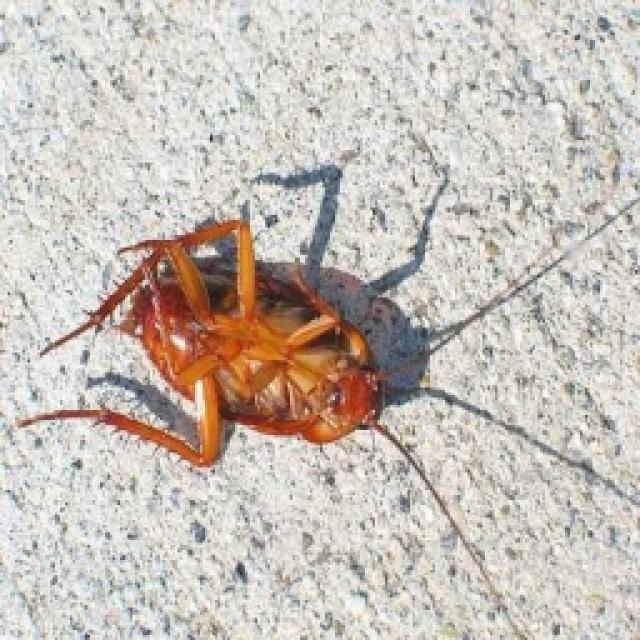cockroach: (49, 208, 402, 478)
